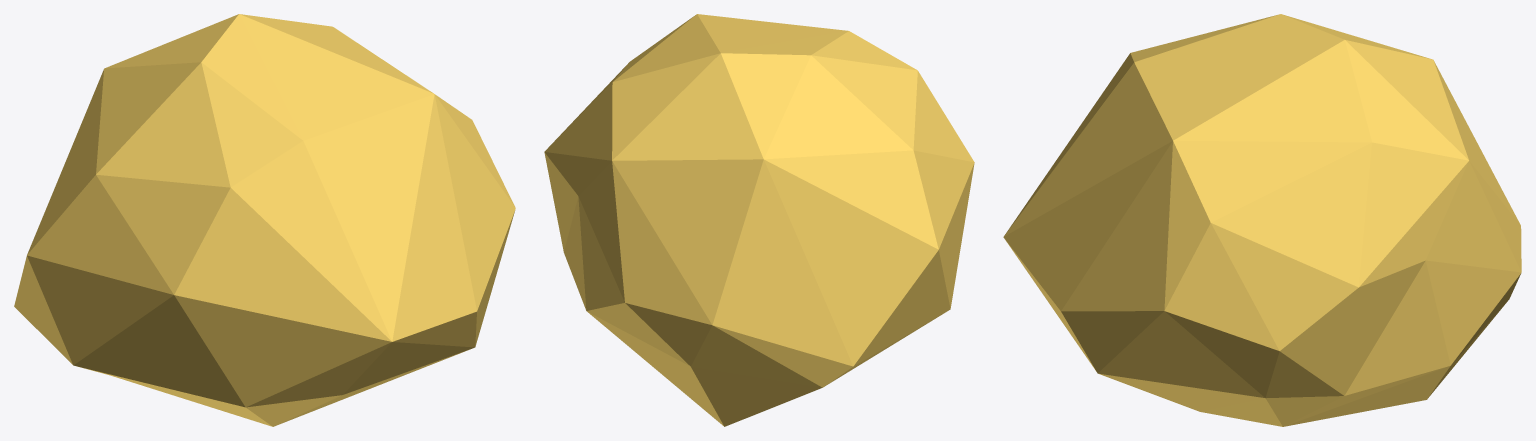
The model's file is Wustensteine.fbx.
3 views of the same model, side by side, from view 1: azimuth 30°, elevation 25°; view 2: azimuth 150°, elevation 25°; view 3: azimuth 270°, elevation 25° (orthographic). The views are drawn at different scales.
Visible parts, largest first — view 1: Wüstenstein; view 2: Wüstenstein; view 3: Wüstenstein.
Boxes of the visible parts, x1=… form: Wüstenstein: x1=14, y1=14, x2=515, y2=426; Wüstenstein: x1=544, y1=14, x2=974, y2=426; Wüstenstein: x1=1003, y1=14, x2=1521, y2=426.
Size of the model in its own units: 36.68 by 30.45 by 37.06.
